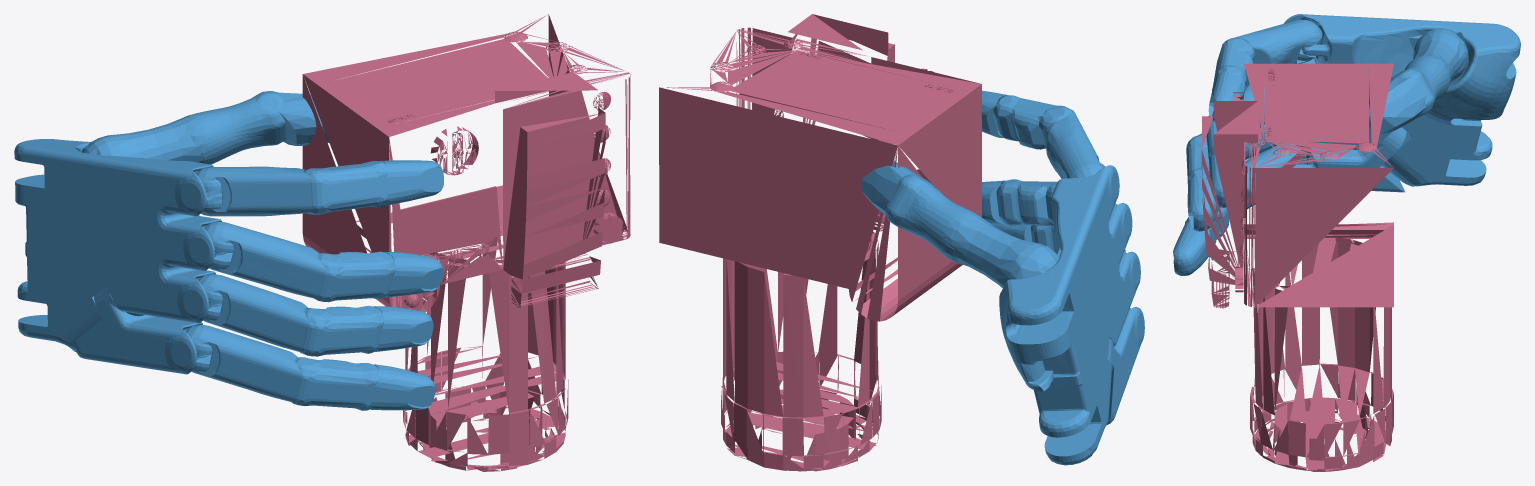
The picture shows the model from 3 angles, left to right: view 1: azimuth 30°, elevation 25°; view 2: azimuth 150°, elevation 25°; view 3: azimuth 270°, elevation 25°; orthographic projection. The views are drawn at different scales.
Parts seen in each view (by area): view 1: 4; view 2: 4; view 3: 4.
Boxes of the visible parts, bbox=[...] form: 4: bbox=[14, 14, 630, 471]; 4: bbox=[659, 14, 1144, 471]; 4: bbox=[1173, 14, 1520, 471].
Bounding box in the file's own units: 0.2274 × 0.1728 × 0.1619.
